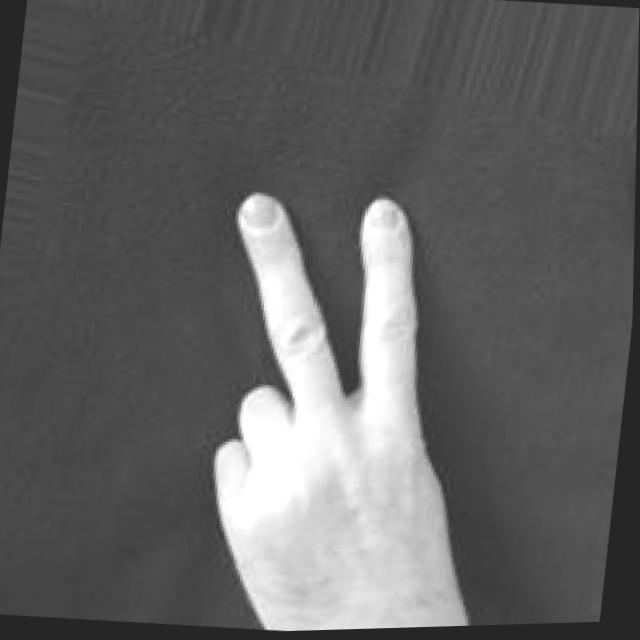V: (170, 175, 519, 635)
